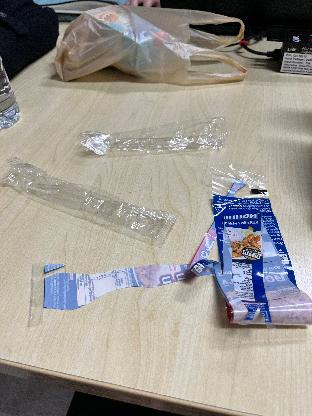Others: (180, 167, 312, 333), (0, 160, 180, 247), (69, 106, 239, 170)
